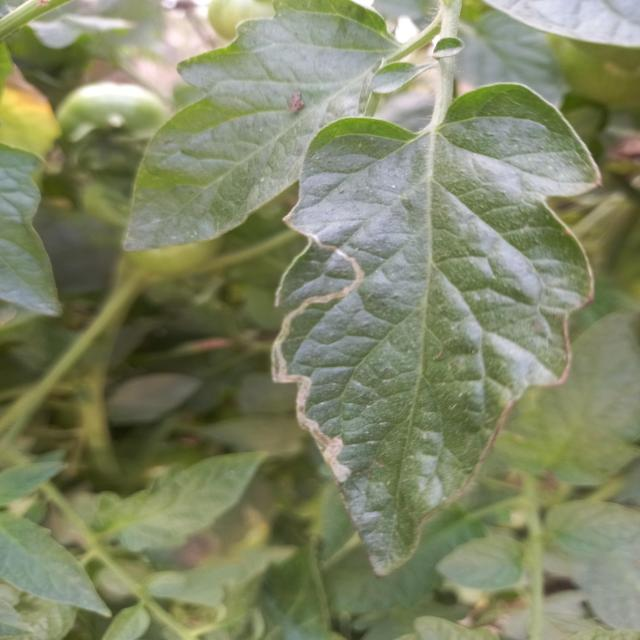Tuta absoluta: (272, 245, 363, 482)
